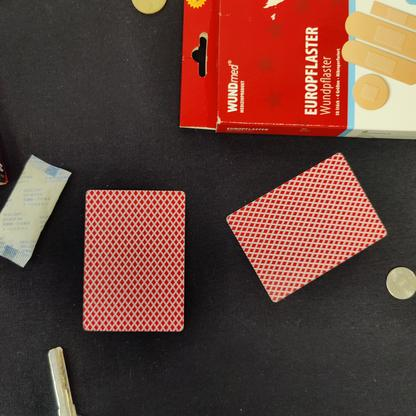card: (221, 146, 390, 312), (78, 185, 194, 341)
